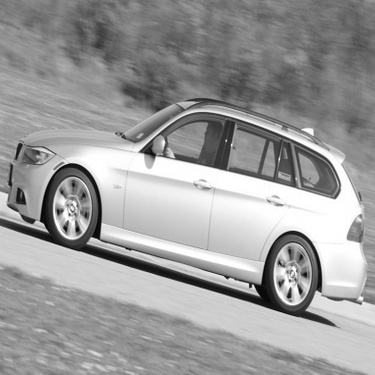car: (4, 96, 372, 316)
